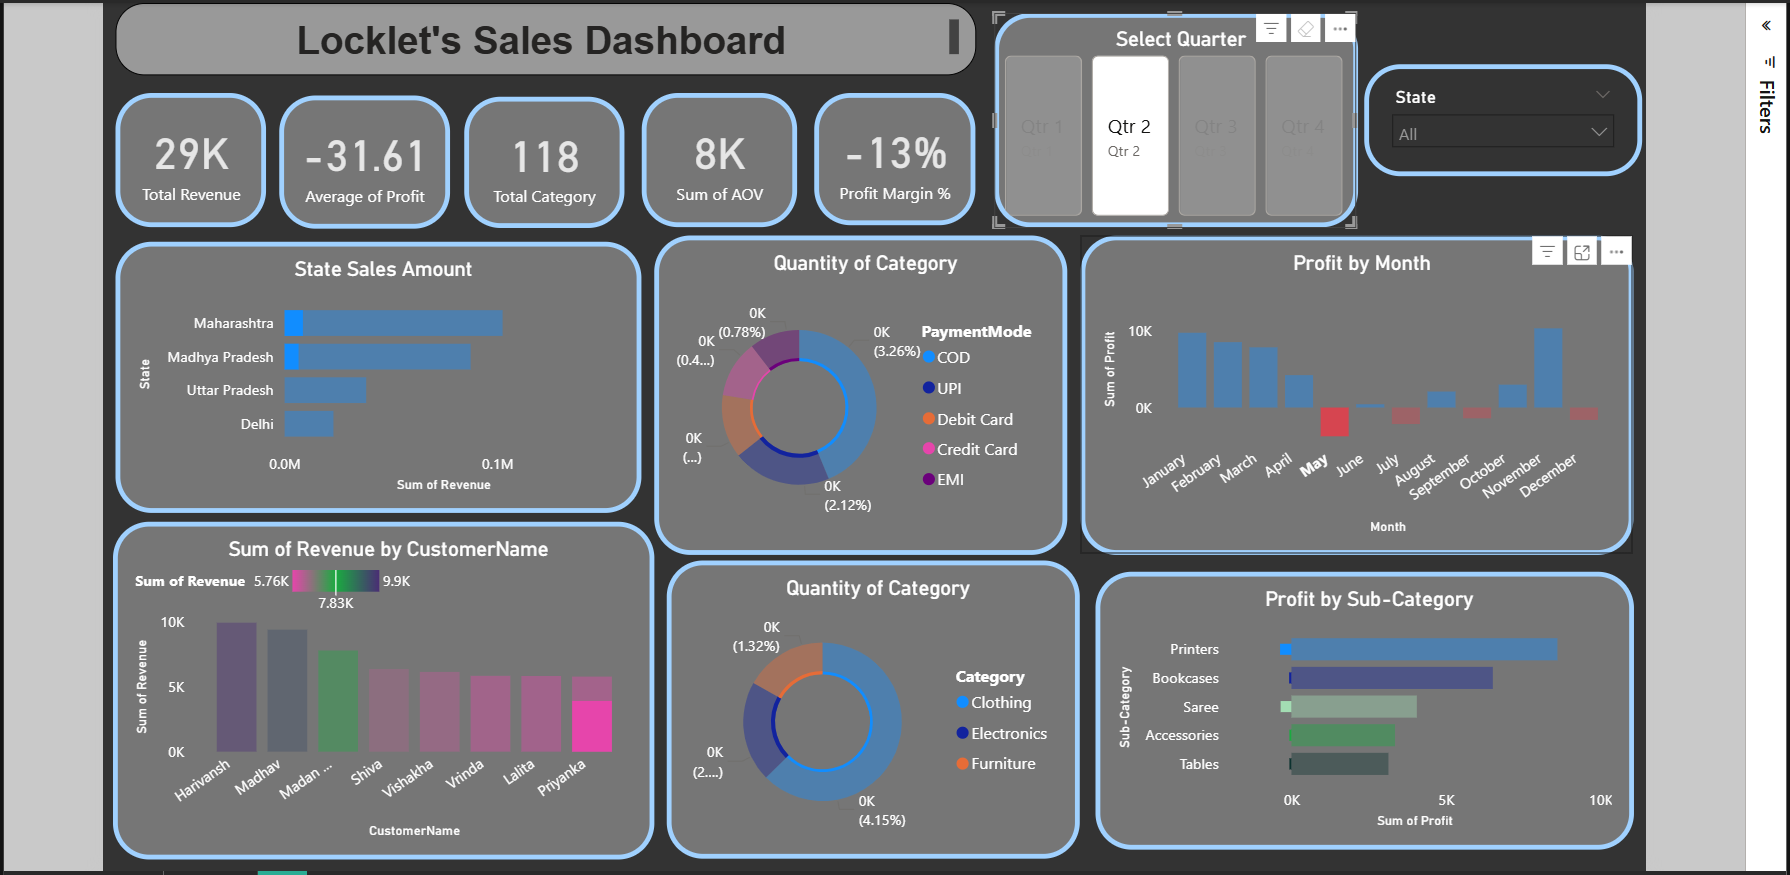

The dashboard page shown, as its layout file describes it:
{"tool":"powerbi","page":{"name":"Page 1","canvas":[1280,720],"ordinal":0},"visuals":[{"type":"textbox","box":[10,0,713.8,60],"z":0},{"type":"donutChart","title":"Quantity of Category","fields":{"Category":["Details.Category"],"Y":["Sum(Details.Quantity)"]},"box":[467.5,462.5,342.5,247.5],"z":1000},{"type":"clusteredColumnChart","title":"Profit by Month","fields":{"Y":["Sum(Details.Profit)"],"Category":["Orders.Order Date.Variation.Date Hierarchy.Month"]},"box":[810,192.5,458.8,265],"z":2000},{"type":"barChart","title":"Profit by Sub-Category","fields":{"Category":["Details.Sub-Category"],"Y":["Sum(Details.Profit)"]},"box":[822.5,471.2,446.2,230],"z":3000},{"type":"donutChart","title":"Quantity of Category","fields":{"Y":["Sum(Details.Quantity)"],"Category":["Details.PaymentMode"]},"box":[457.5,192.5,342.5,265],"z":4000},{"type":"card","fields":{"Values":["Sum(Details.Amount)"]},"box":[10,75,125,111.2],"z":5000},{"type":"card","fields":{"Values":["Avg(Details.Profit)"]},"box":[146.2,76.2,141.2,110],"z":6000},{"type":"card","fields":{"Values":["CountNonNull(Details.Category)"]},"box":[300,77.5,132.5,108.8],"z":7000},{"type":"card","fields":{"Values":["Sum(Details.AOV)"]},"box":[446.2,75,128.8,111.2],"z":8000},{"type":"barChart","title":"State Sales Amount","fields":{"Category":["Orders.State"],"Y":["Sum(Details.Amount)"]},"box":[10,197.5,436.2,225],"z":9000},{"type":"columnChart","fields":{"Category":["Orders.CustomerName"],"Y":["Sum(Details.Amount)"]},"box":[8.8,430,448.8,280],"z":10000},{"type":"advancedSlicerVisual","title":"Select Quarter","fields":{"Values":["Orders.Order Date.Variation.Date Hierarchy.Quarter"],"Label":["Min(Orders.Order Date.Variation.Date Hierarchy.Quarter)"]},"box":[738.5,8.4,301.4,177.7],"z":11000},{"type":"slicer","fields":{"Values":["Orders.State"]},"box":[1045.4,51.2,230.2,93],"z":12000},{"type":"card","fields":{"Values":["Details.Profit Margin %"]},"box":[589.6,74.4,133.3,109.3],"z":13000}]}

Visuals, with their boxes on the page's 1280x720 design canvas (x1, y1, x2, y2). These are canvas units, not pixel positions in the 1790x875 screenshot, which may show the page scaled, cropped or inside an application window:
textbox: crop(10, 0, 724, 60)
"Quantity of Category" donutChart: crop(468, 462, 810, 710)
"Profit by Month" clusteredColumnChart: crop(810, 192, 1269, 458)
"Profit by Sub-Category" barChart: crop(822, 471, 1269, 701)
"Quantity of Category" donutChart: crop(458, 192, 800, 458)
card - Sum(Details.Amount): crop(10, 75, 135, 186)
card - Avg(Details.Profit): crop(146, 76, 287, 186)
card - CountNonNull(Details.Category): crop(300, 78, 432, 186)
card - Sum(Details.AOV): crop(446, 75, 575, 186)
"State Sales Amount" barChart: crop(10, 198, 446, 422)
columnChart - Orders.CustomerName x Sum(Details.Amount): crop(9, 430, 458, 710)
"Select Quarter" advancedSlicerVisual: crop(738, 8, 1040, 186)
slicer - Orders.State: crop(1045, 51, 1276, 144)
card - Details.Profit Margin %: crop(590, 74, 723, 184)
